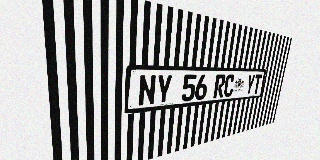5: (181, 74, 197, 102)
6: (194, 74, 209, 100)
C: (223, 74, 235, 97)
N: (138, 75, 157, 106)
R: (213, 74, 226, 98)
T: (252, 74, 262, 94)
Y: (155, 75, 173, 105), (245, 74, 255, 95)
